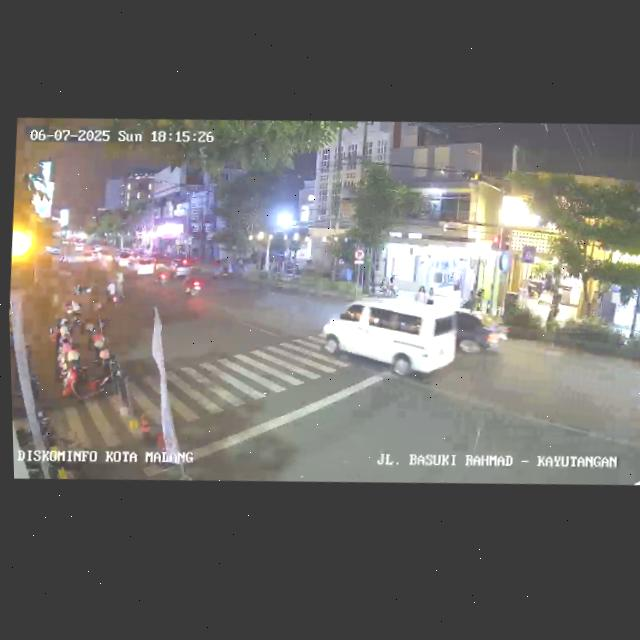car: (317, 290, 460, 389), (454, 305, 512, 358), (120, 252, 158, 279)
motorcycle: (182, 267, 205, 302), (104, 273, 124, 309), (153, 260, 170, 286)
person: (548, 290, 561, 325), (412, 281, 426, 307), (424, 282, 438, 306), (639, 303, 640, 334)
